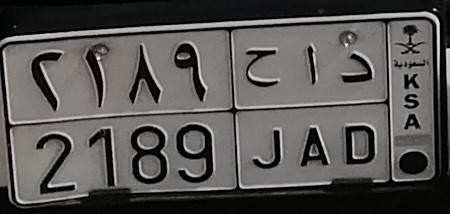1: (82, 47, 121, 189)
2: (30, 48, 79, 193)
8: (126, 42, 170, 185)
9: (172, 40, 216, 184)
A: (298, 43, 332, 167)
D: (339, 49, 379, 166)
J: (244, 46, 285, 170)
